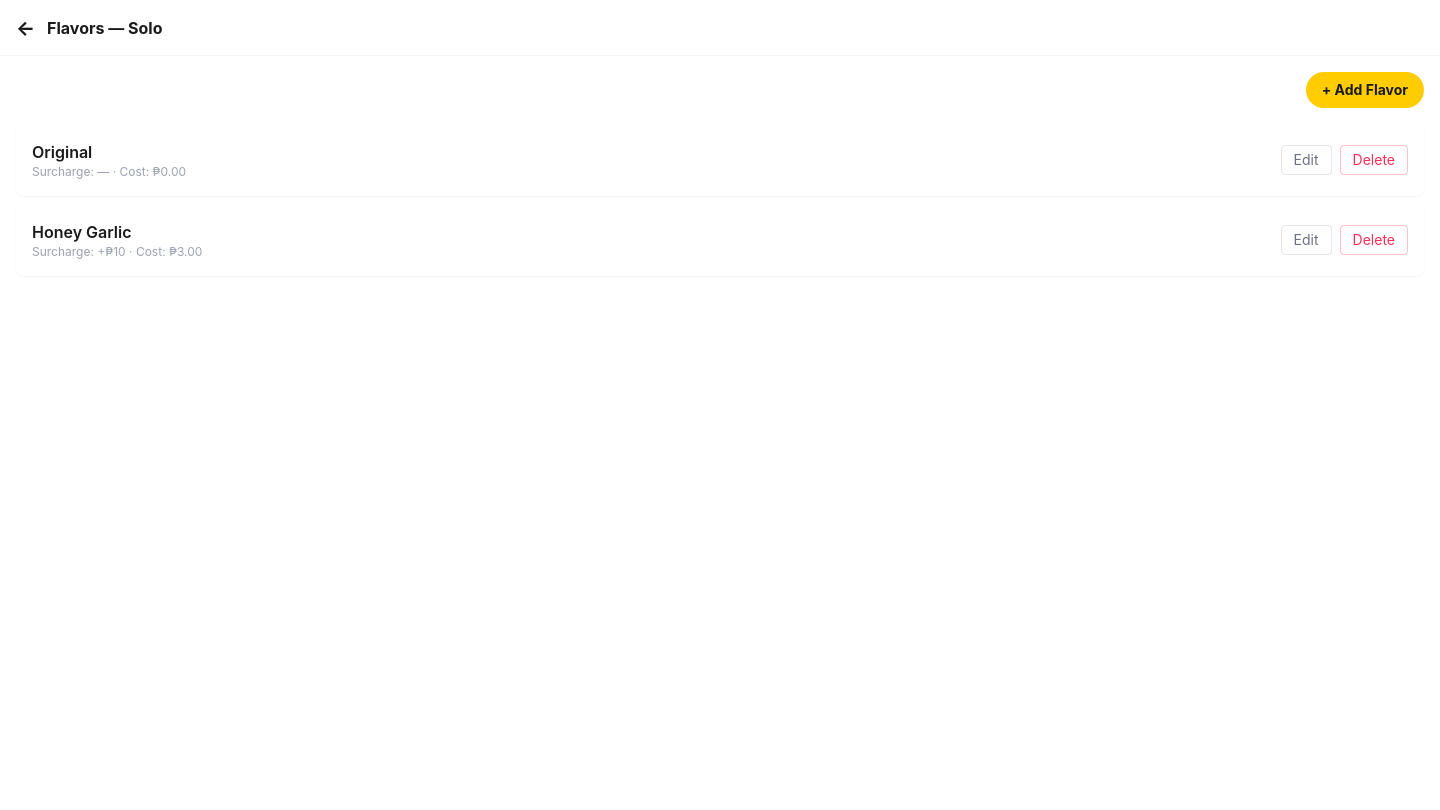
Flavors › opens edit form pre-filled when Edit clicked
Expected: the text "Original" is shown, [32, 142, 92, 162]
What coordinates should you click on to do the following:
click the button "Edit" in the row of "Honey Garlic"
I would click on:
 (1306, 240)
Its box is [1281, 225, 1332, 255].
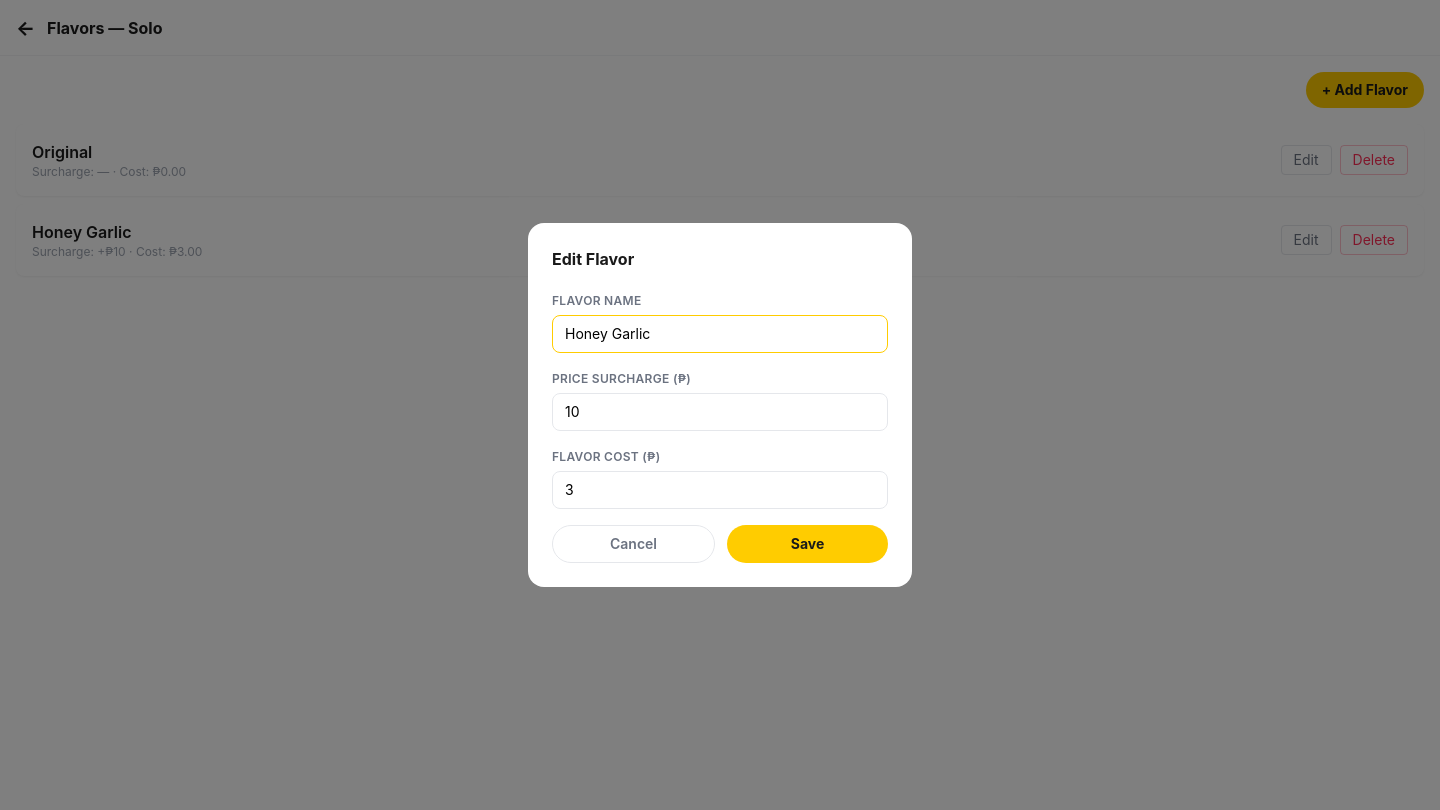
Now the heading "Edit Flavor" is shown, box [552, 249, 634, 269]
Now the field showing "Honey Garlic" is shown, box [552, 315, 888, 353]
Now the number field showing "10" is shown, box [552, 393, 888, 431]
